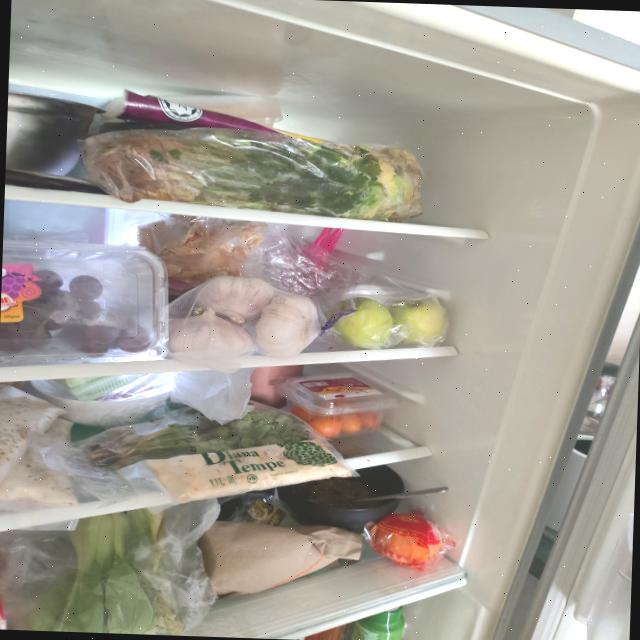apple: (324, 293, 451, 352)
garlic: (166, 272, 324, 359)
grape: (0, 267, 153, 360)
leafy_greens: (79, 122, 422, 222), (89, 396, 314, 476)
orange: (372, 509, 444, 565)
pakchoy: (34, 502, 186, 636)
tempeh: (144, 430, 354, 508), (0, 387, 84, 507)
